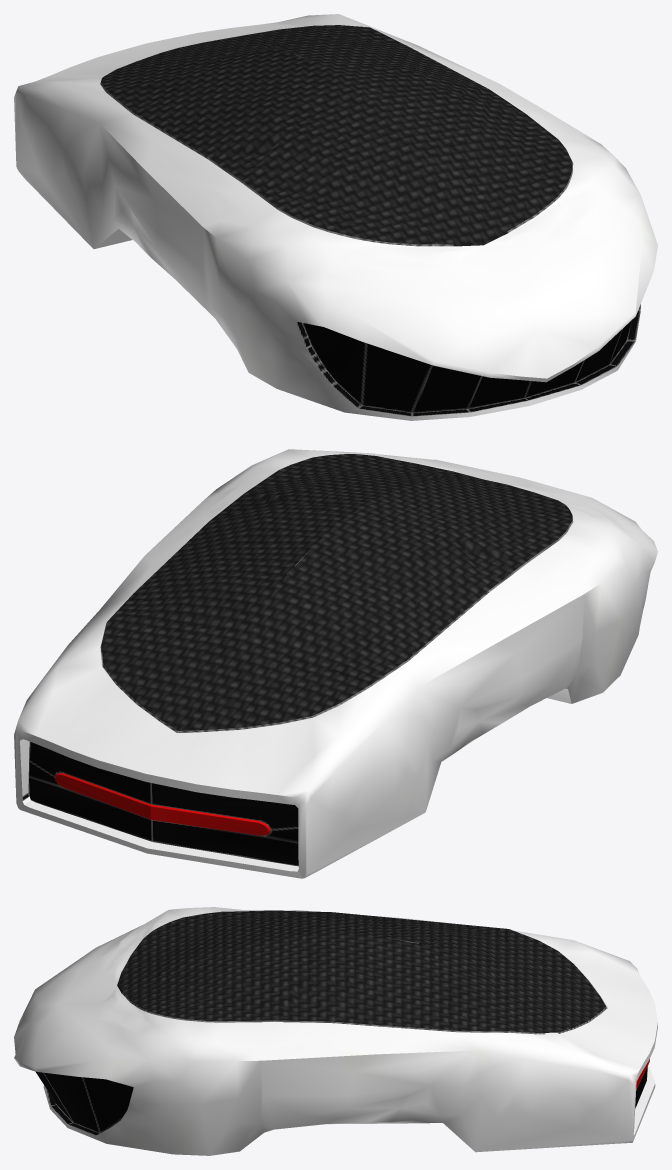
Rendered from cochetexturizada.fbx.
The picture shows the model from 3 angles, top to bottom: view 1: azimuth 30°, elevation 25°; view 2: azimuth 150°, elevation 25°; view 3: azimuth 270°, elevation 25°; orthographic projection. The views are drawn at different scales.
Parts seen in each view (by area): view 1: Techo_1; view 2: Techo_1; view 3: Techo_1.
Part boxes in pixels (x1=…): Techo_1: x1=14, y1=14, x2=657, y2=420; Techo_1: x1=14, y1=449, x2=657, y2=878; Techo_1: x1=14, y1=907, x2=657, y2=1155.
Size of the model in its own units: 455 by 217 by 825.
4 materials, 3 textured.
